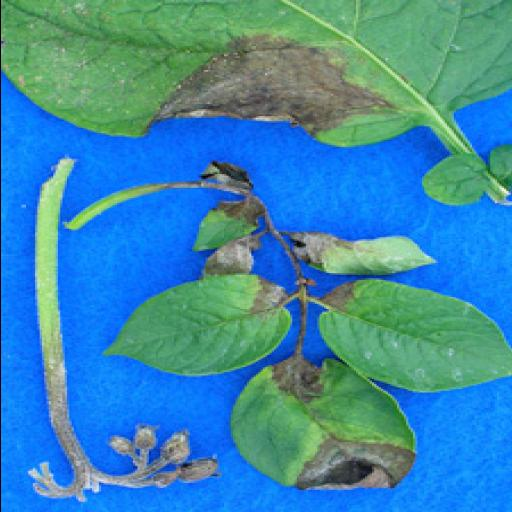disease_tomato: (0, 2, 510, 150), (223, 358, 421, 498), (312, 278, 510, 394), (100, 273, 296, 382), (284, 232, 436, 280)
